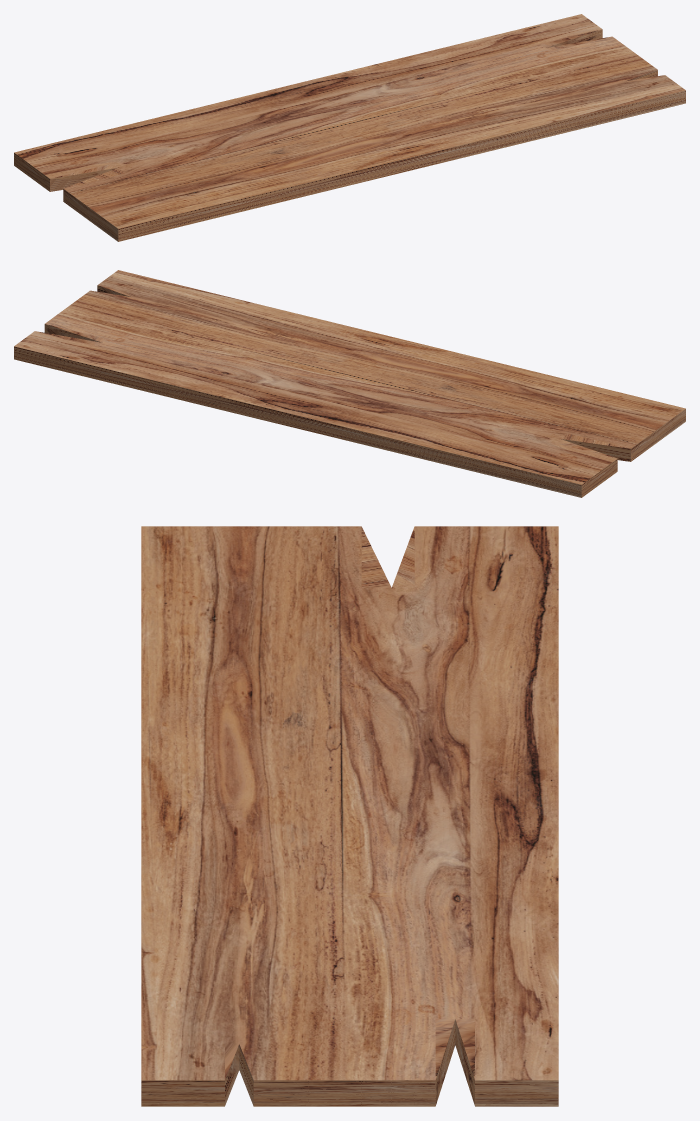
File: Holz.fbx
3 renders of one model, top to bottom at view 1: azimuth 30°, elevation 25°; view 2: azimuth 150°, elevation 25°; view 3: azimuth 270°, elevation 25°, orthographic. The views are drawn at different scales.
Visible parts, largest first — view 1: Würfel; view 2: Würfel; view 3: Würfel.
Boxes of the visible parts, bbox=[...] form: Würfel: bbox=[14, 14, 685, 241]; Würfel: bbox=[14, 270, 685, 497]; Würfel: bbox=[141, 526, 558, 1106].
Bounding box in the file's own units: 344 × 7.6 × 109.
Materials: 1 (1 with a texture image).
